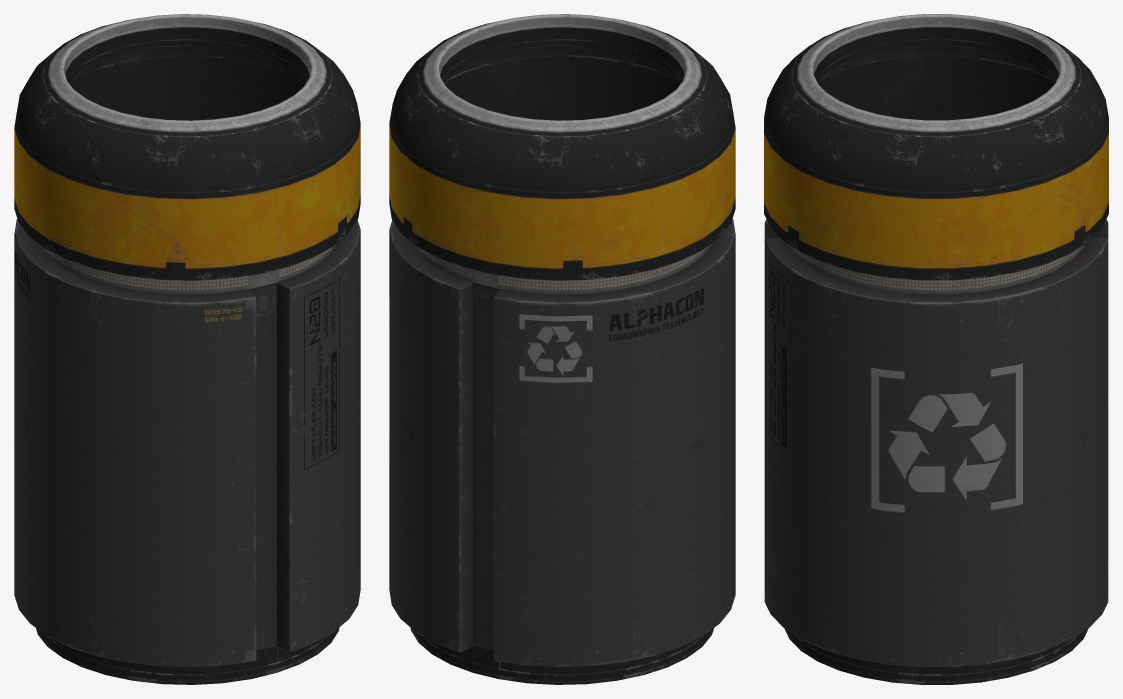
File: Sub_Trash_Bin.fbx
3 renders of one model, left to right at view 1: azimuth 30°, elevation 25°; view 2: azimuth 150°, elevation 25°; view 3: azimuth 270°, elevation 25°, orthographic.
Visible parts, largest first — view 1: pCylinder8; view 2: pCylinder8; view 3: pCylinder8.
Part boxes in pixels (box(x1,y1,x2,y2)): pCylinder8: box(14, 14, 360, 684); pCylinder8: box(389, 14, 735, 684); pCylinder8: box(764, 14, 1108, 684).
Size of the model in its own units: 33.45 by 59.15 by 33.45.
